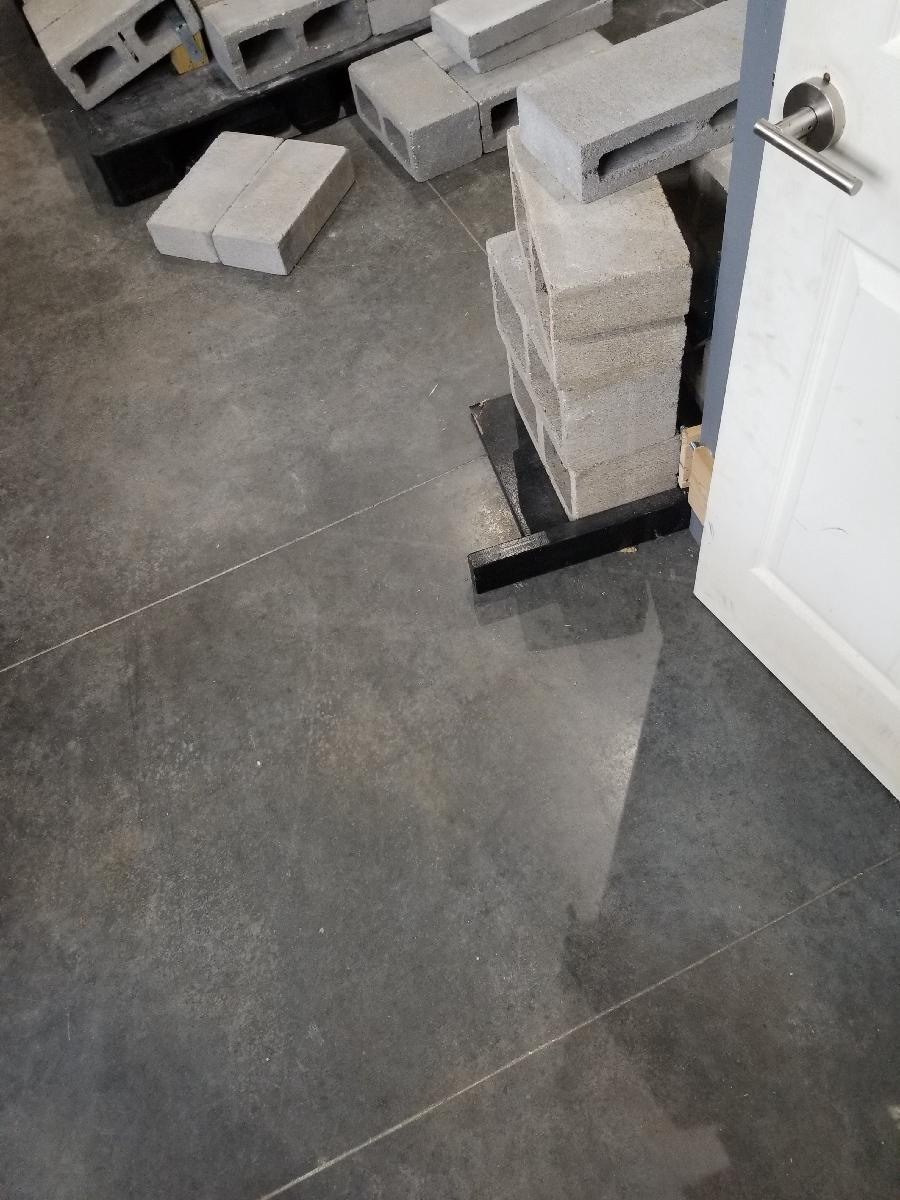handle: (746, 68, 861, 194)
